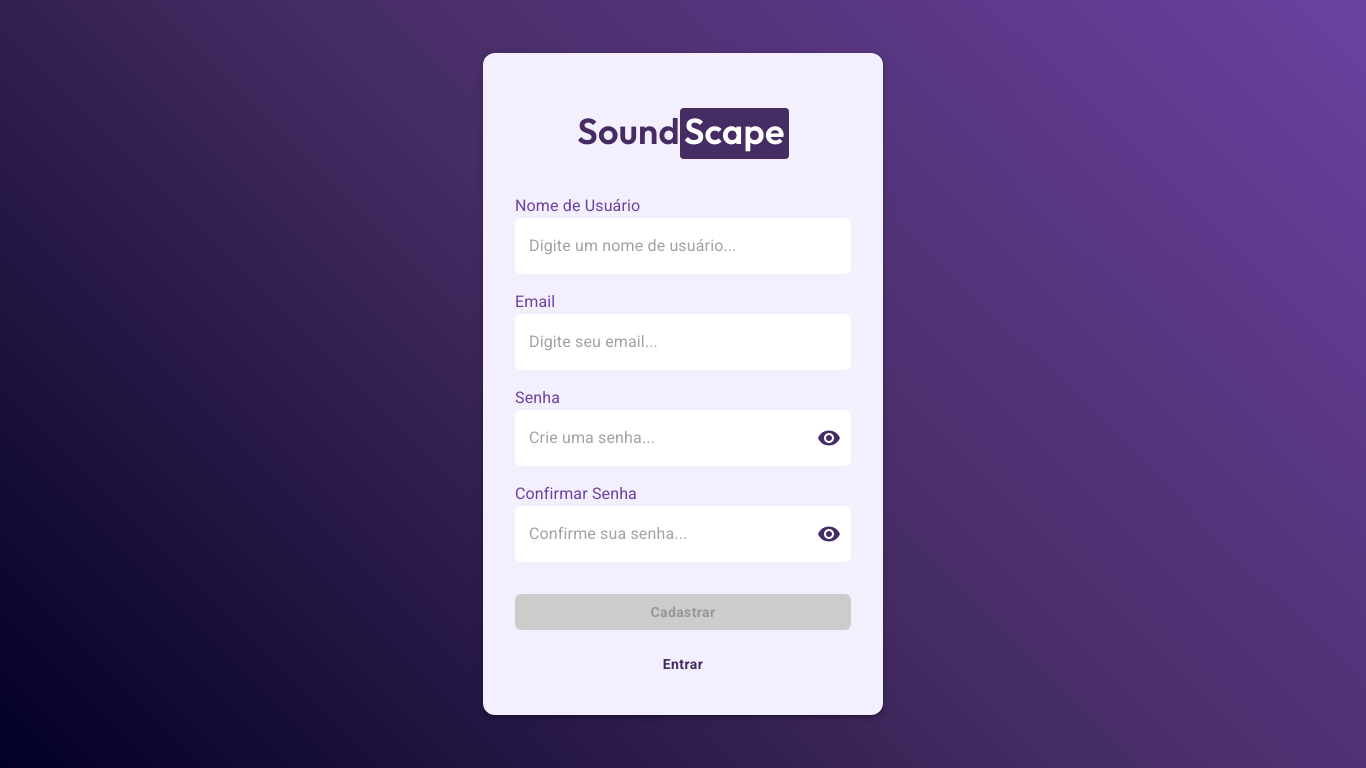
Test: Register Component › deve exibir mensagens de erro quando a API retorna erros específicos
The image size is (1366, 768).
Type "existinguser" into the field with placeholder "Digite um nome de usuário..." at (683, 246), box [515, 218, 851, 274]
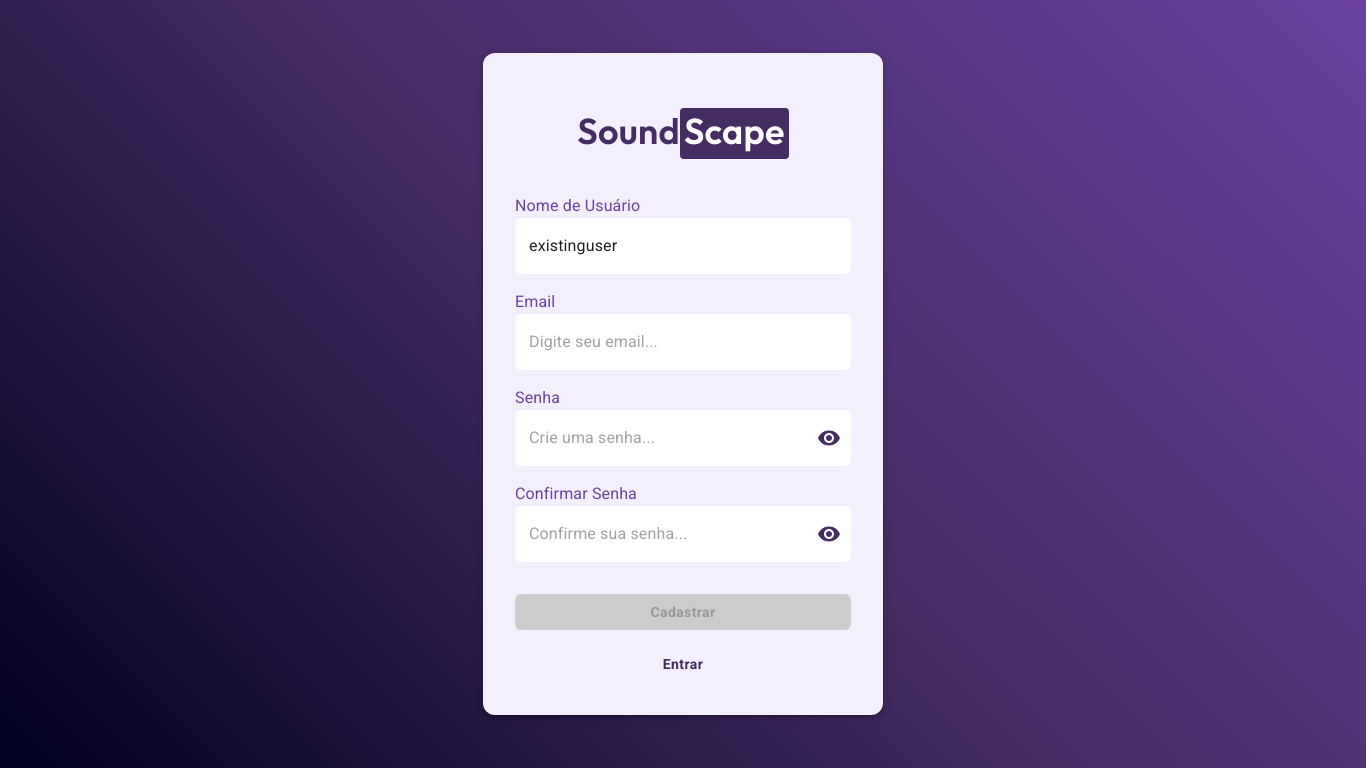
Type "existing@example.com" into the field with placeholder "Digite seu email..." at (683, 342), box [515, 314, 851, 370]
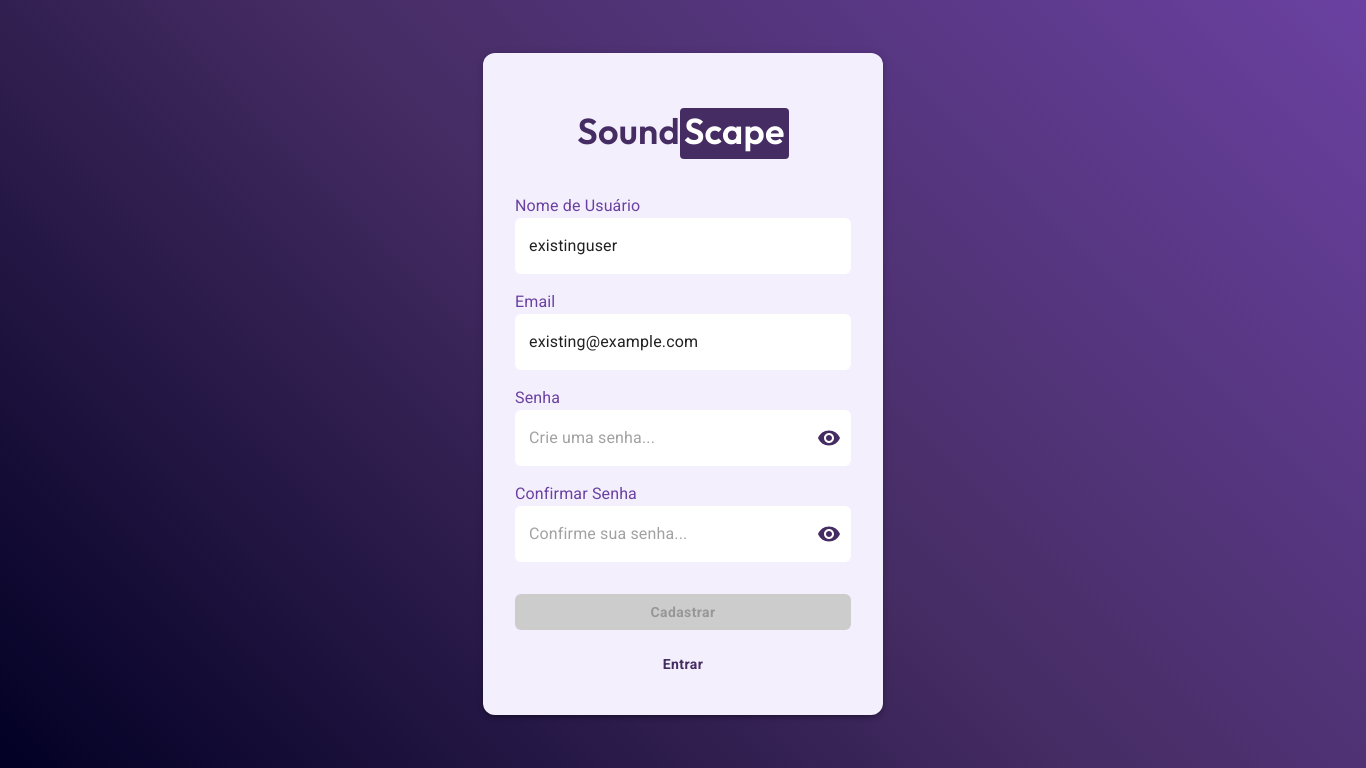
Type "Password123!" into the password field with placeholder "Crie uma senha..." at (658, 438), box [515, 410, 801, 466]
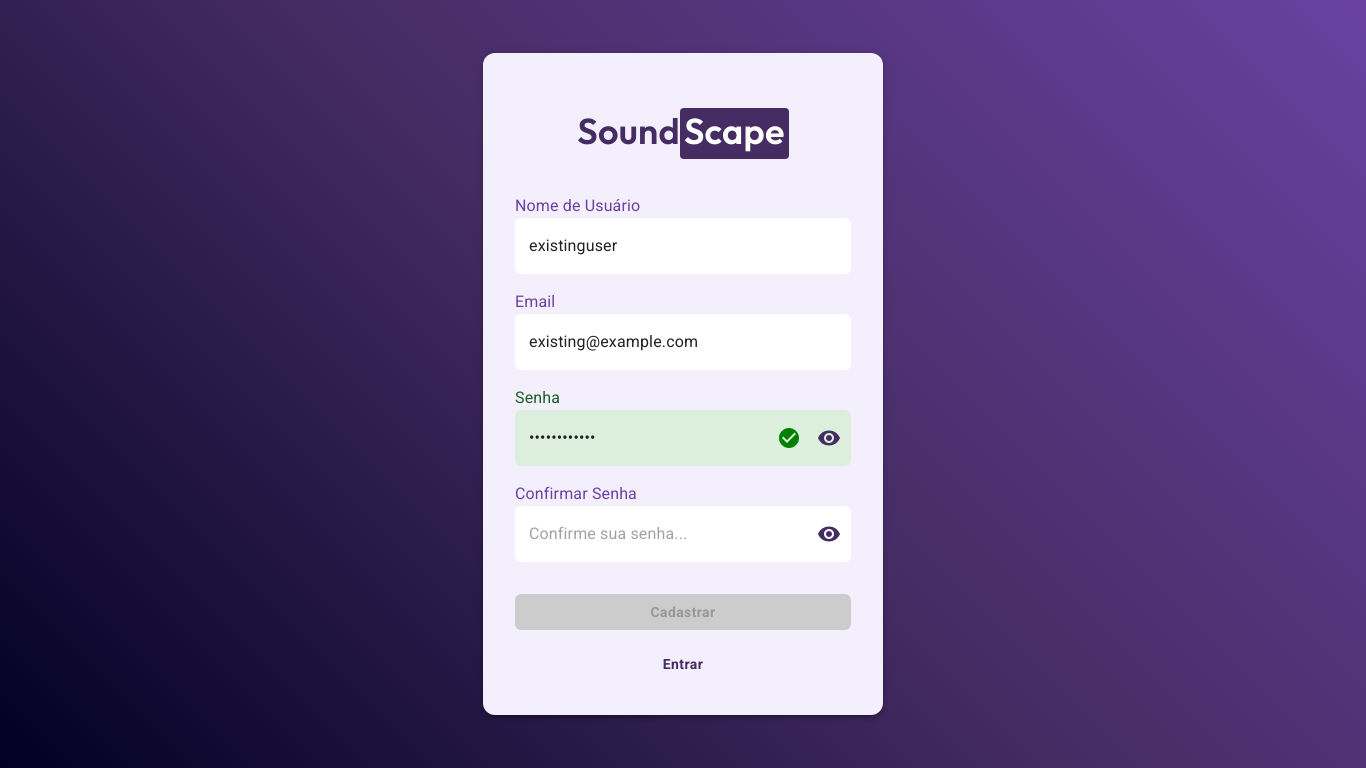
Type "Password123!" into the password field with placeholder "Confirme sua senha..." at (658, 534), box [515, 506, 801, 562]
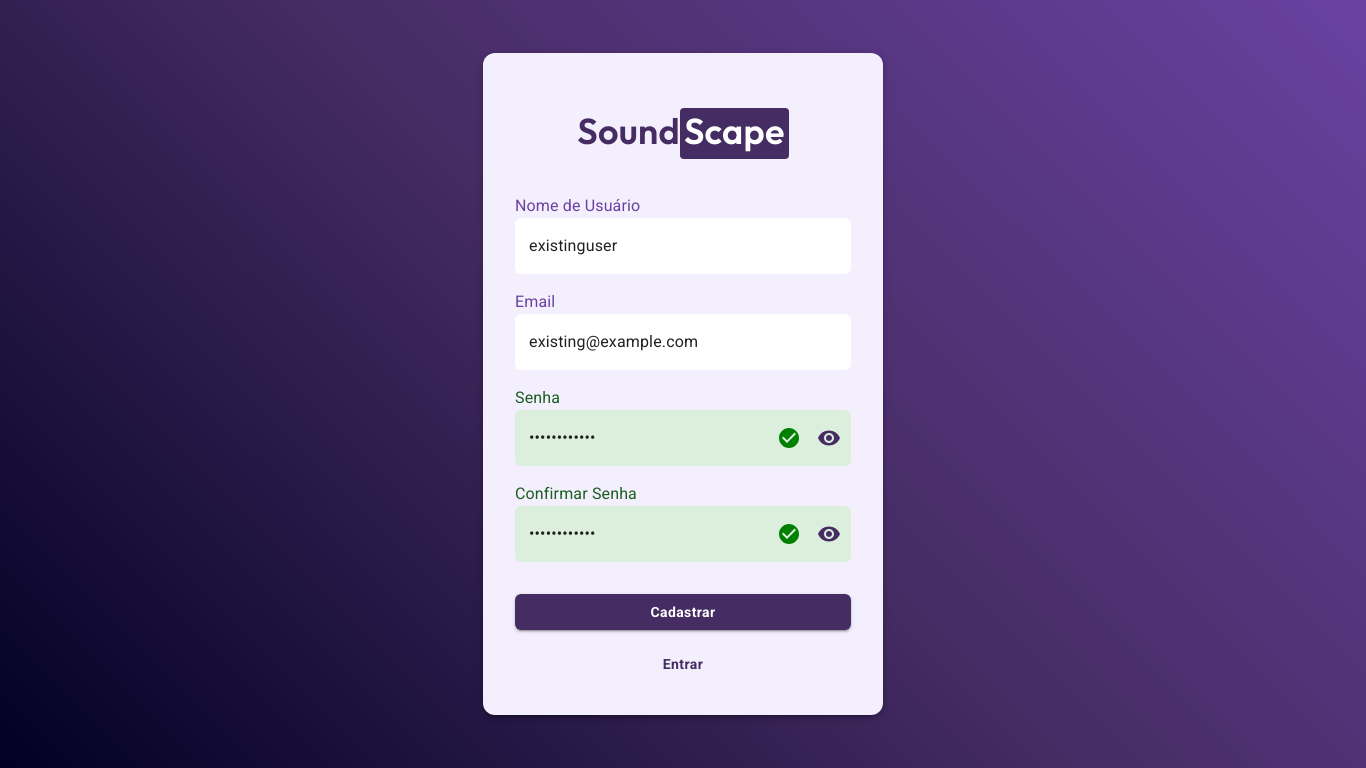
Click the button "Cadastrar" at (683, 612), box [515, 594, 851, 630]
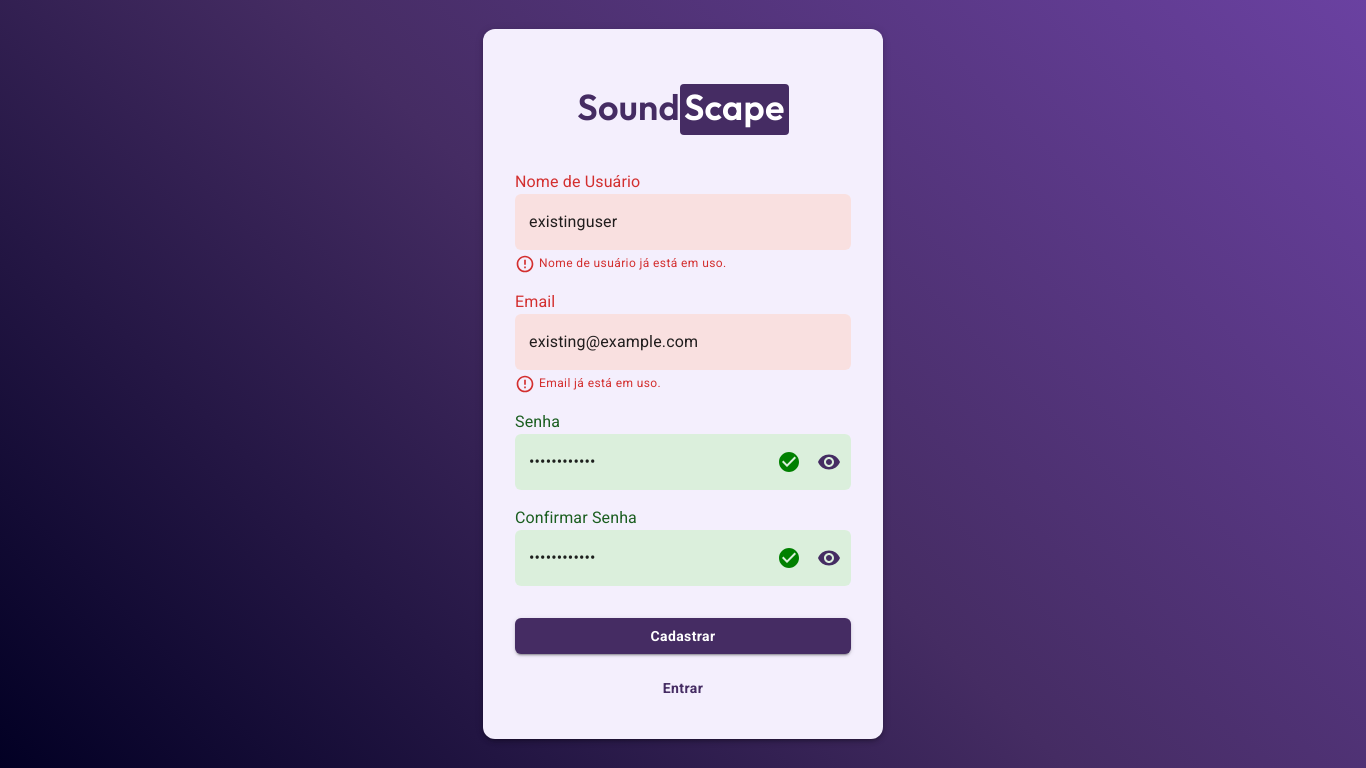
Result: the text "Email já está em uso." is shown at [539, 374, 661, 394]
Result: the text "Nome de usuário já está em uso." is shown at [539, 254, 727, 274]
